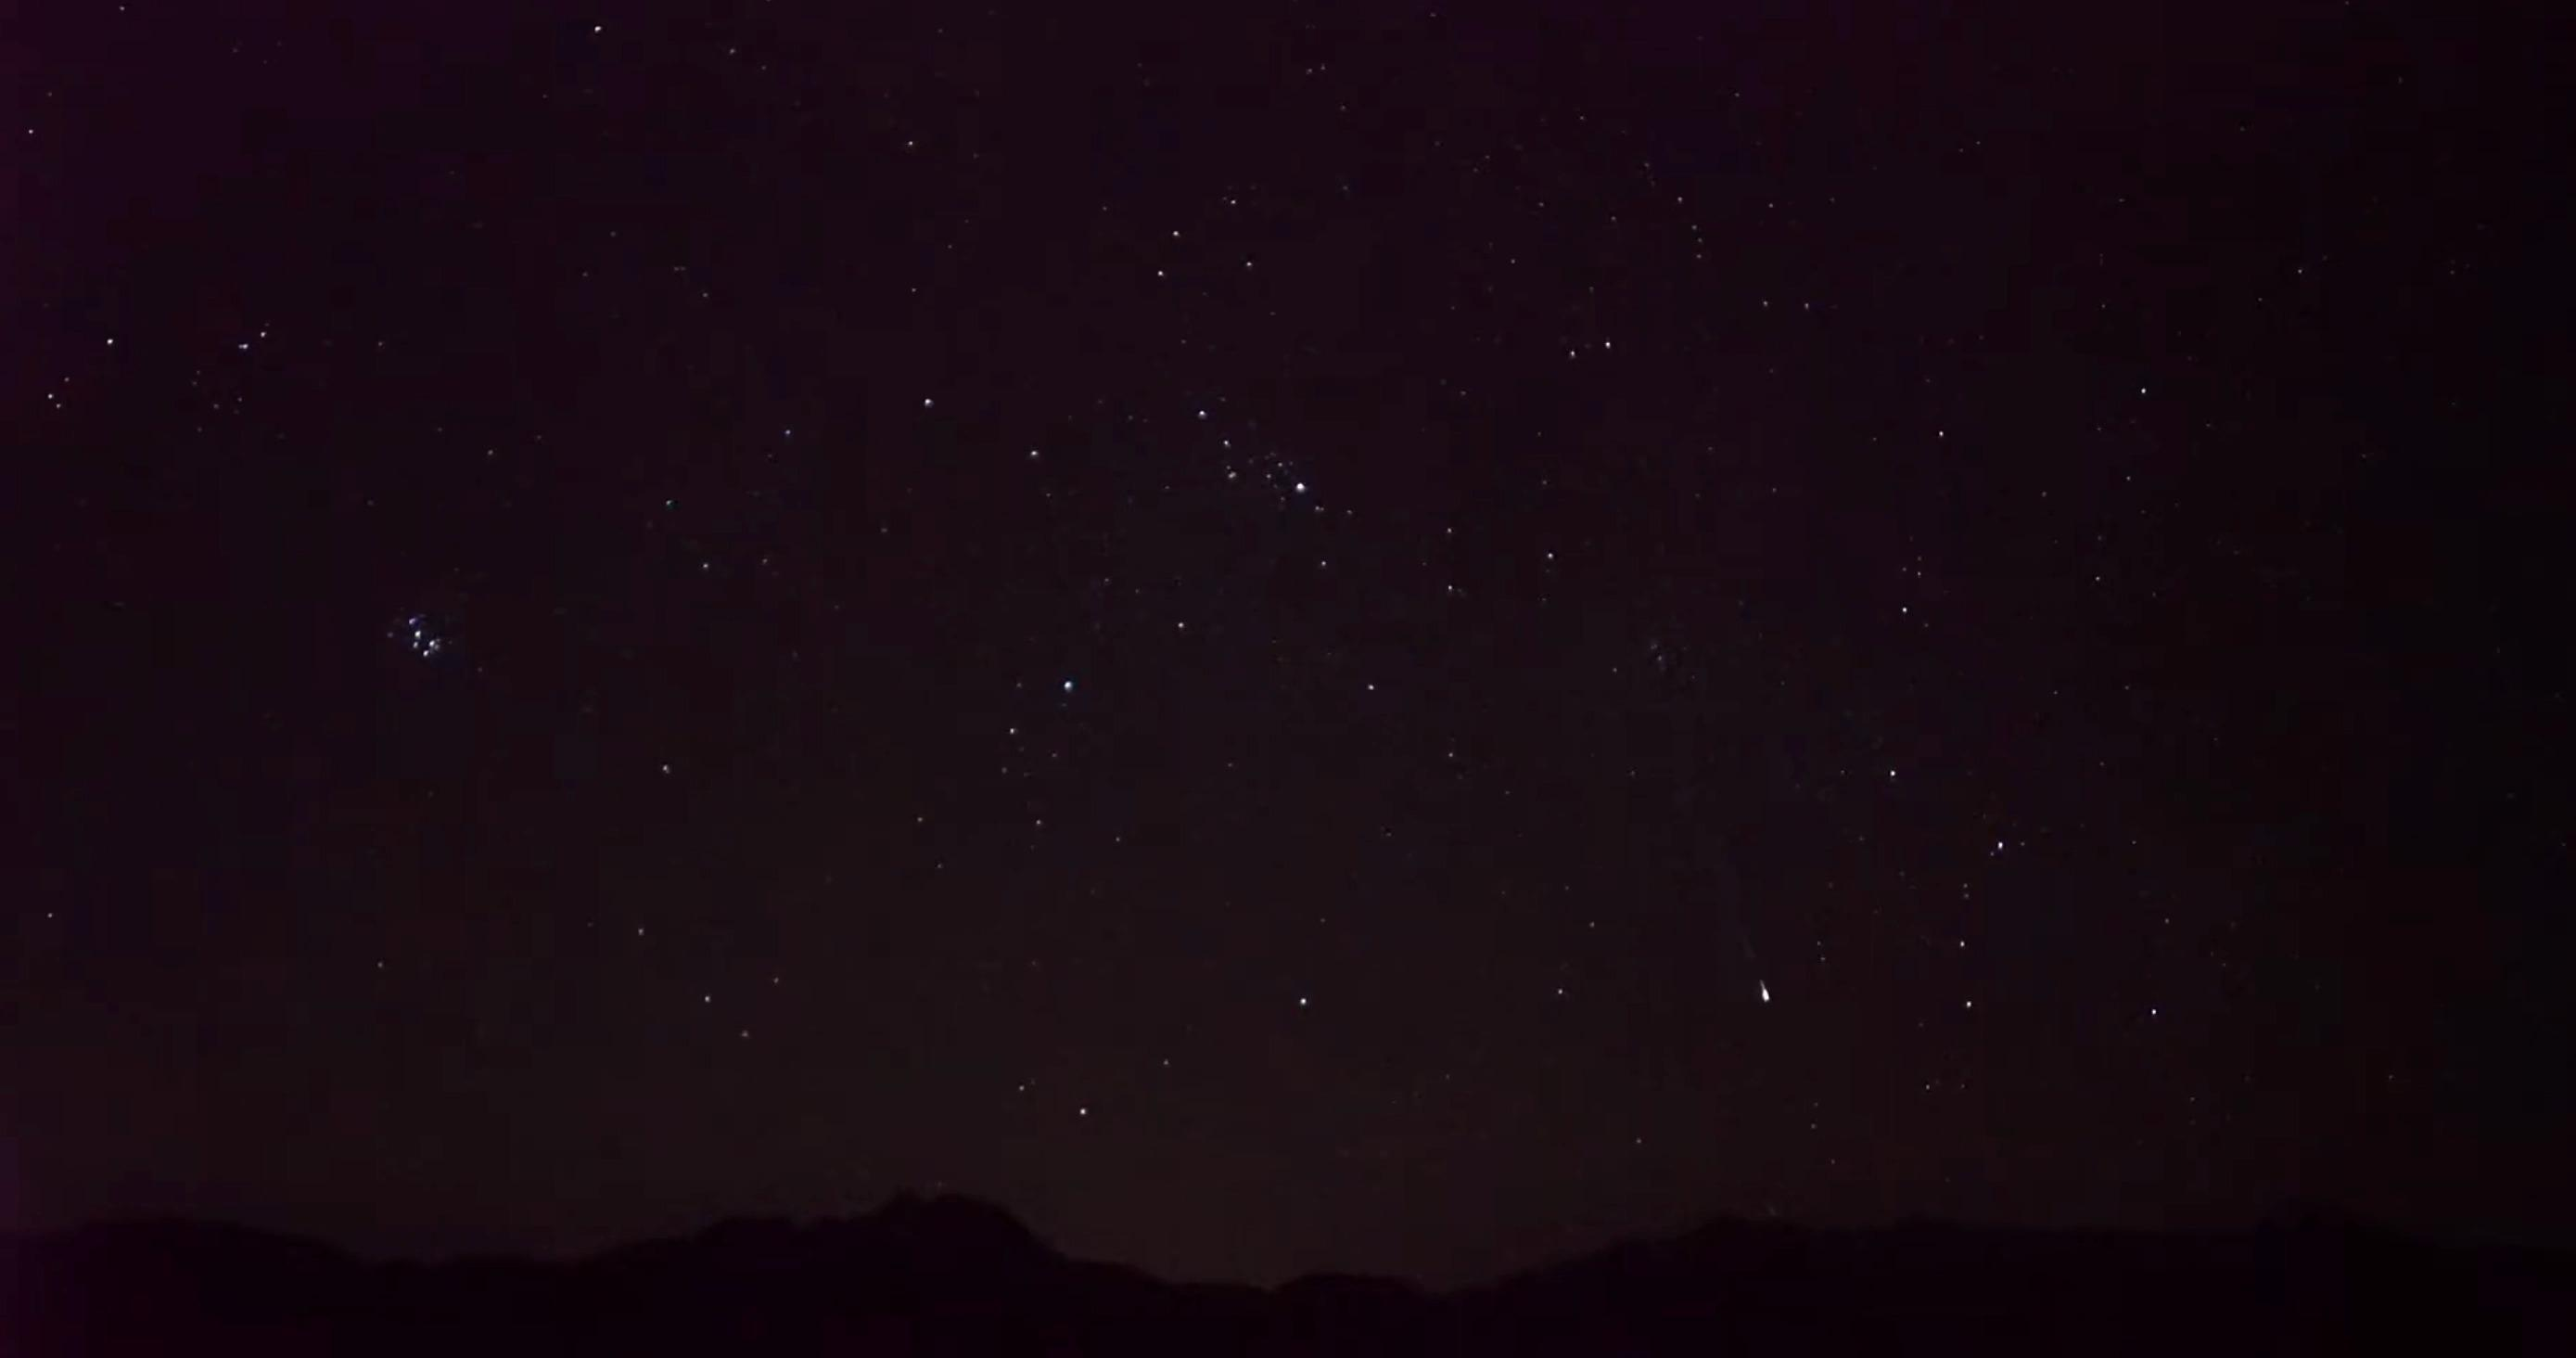meteorite: (1729, 966, 1814, 1014)
